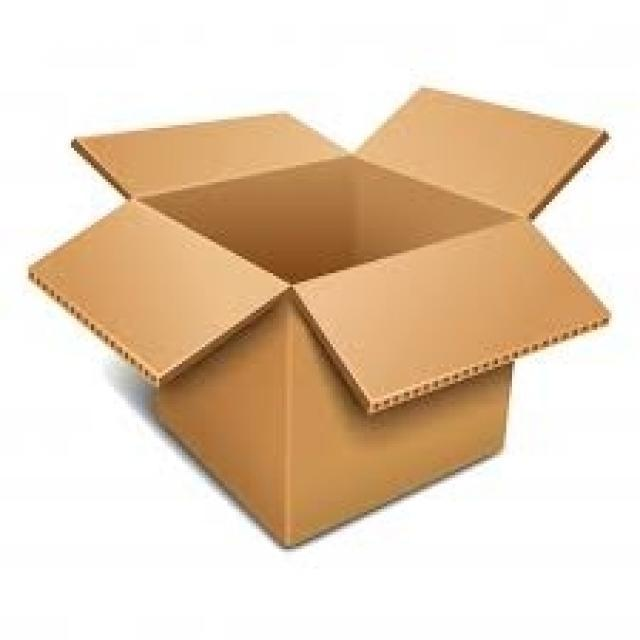cardboard paper: (29, 88, 606, 544), (151, 292, 510, 544), (29, 201, 286, 382), (357, 88, 605, 215)
